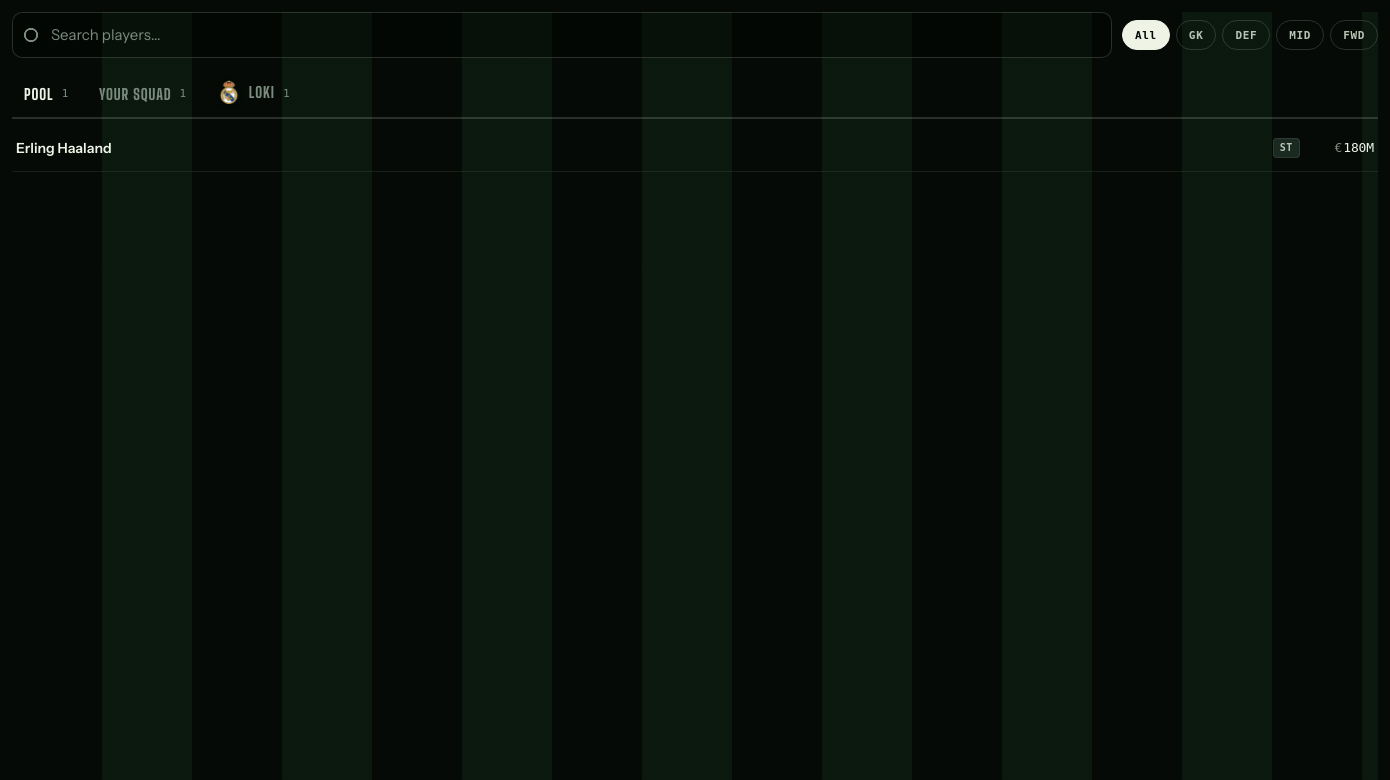
Test: each team is its own tab, so rivals aren't buried under a long pool
The image size is (1390, 780).
Expected: the text "Erling Haaland" is shown, [16,138,112,156]
Expected: the text "Mbappé" is not shown
Click the tab "Loki 1". click: [254, 96]
box: [205,72,302,119]
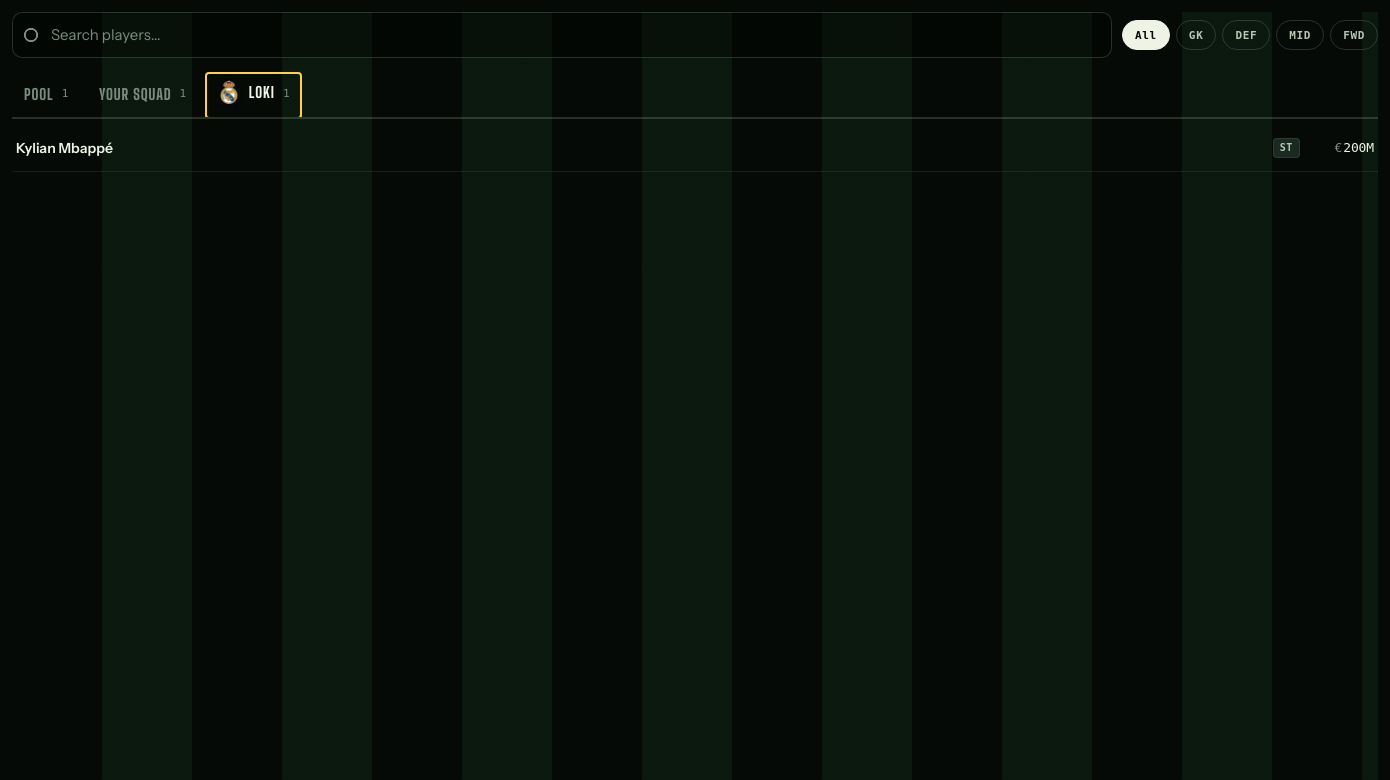
Now the text "Kylian Mbappé" is shown, box [16,138,113,156]
Now the button "Haaland" is gone
